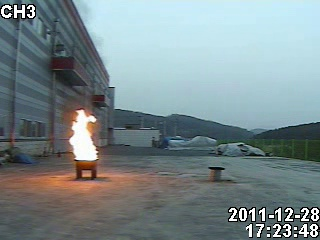fire: (66, 104, 98, 162)
